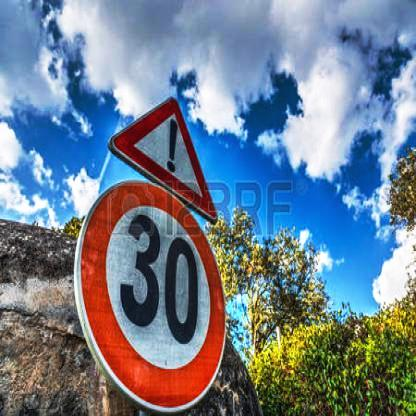Speed Limit -30-: (76, 150, 226, 414)
